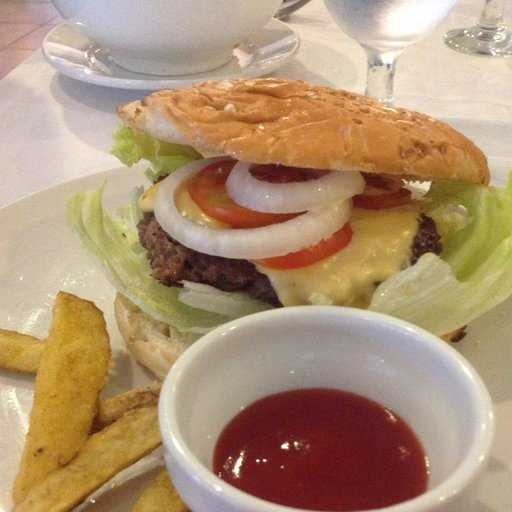hamburger: (106, 108, 472, 358)
